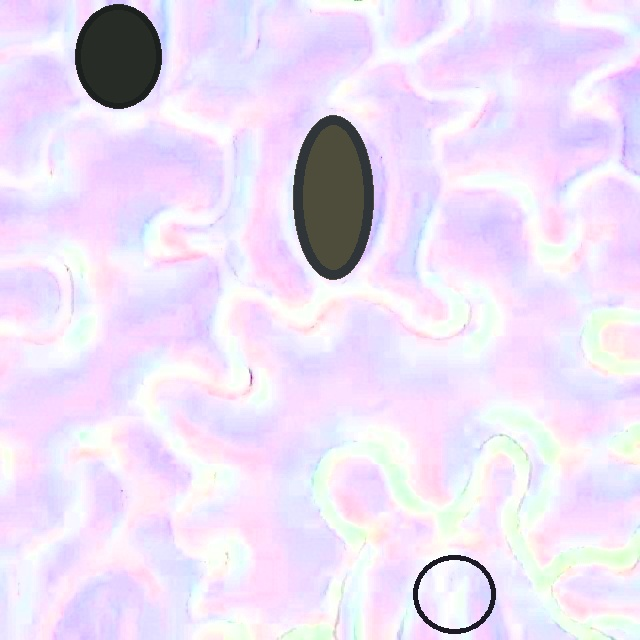open: (294, 116, 373, 279), (75, 3, 161, 109), (412, 555, 497, 634)
